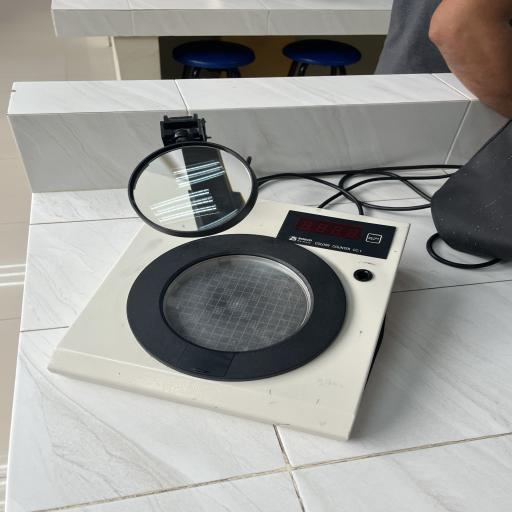Contador_Colonias_CC1: (36, 108, 436, 449)
